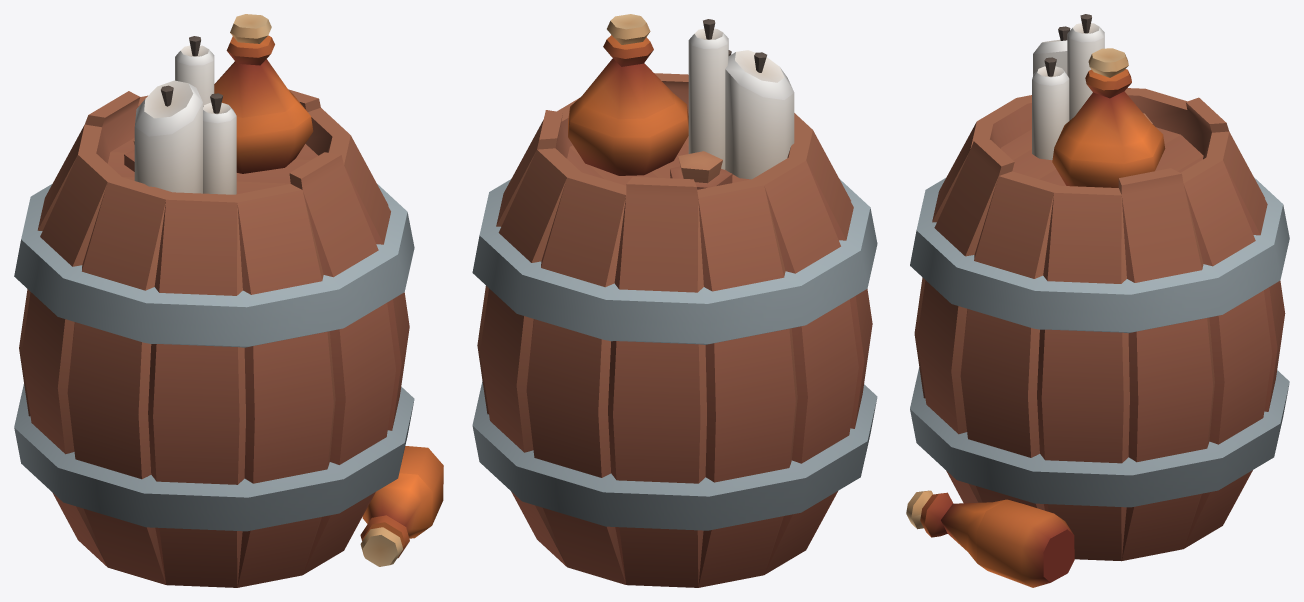
File: barrel_large_decorated.glb
3 views of the same model, side by side, from view 1: azimuth 30°, elevation 25°; view 2: azimuth 150°, elevation 25°; view 3: azimuth 270°, elevation 25° (orthographic). The views are drawn at different scales.
Parts seen in each view (by area): view 1: barrel_large_decorated; view 2: barrel_large_decorated; view 3: barrel_large_decorated.
Boxes of the visible parts, x1,y1,x2,y2 form: barrel_large_decorated: [14, 14, 443, 587]; barrel_large_decorated: [472, 14, 877, 587]; barrel_large_decorated: [906, 14, 1289, 587].
Size of the model in its own units: 1.94 by 2.56 by 1.86.
Materials: 1 (1 with a texture image).
